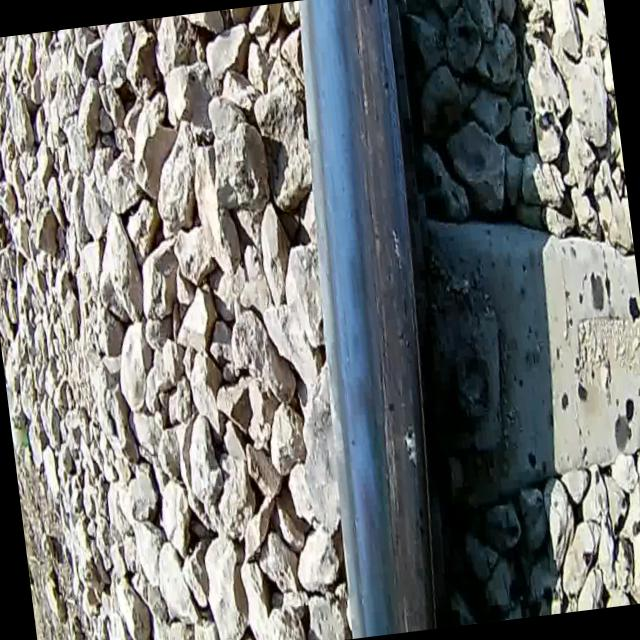Grooves: (317, 0, 441, 633)
